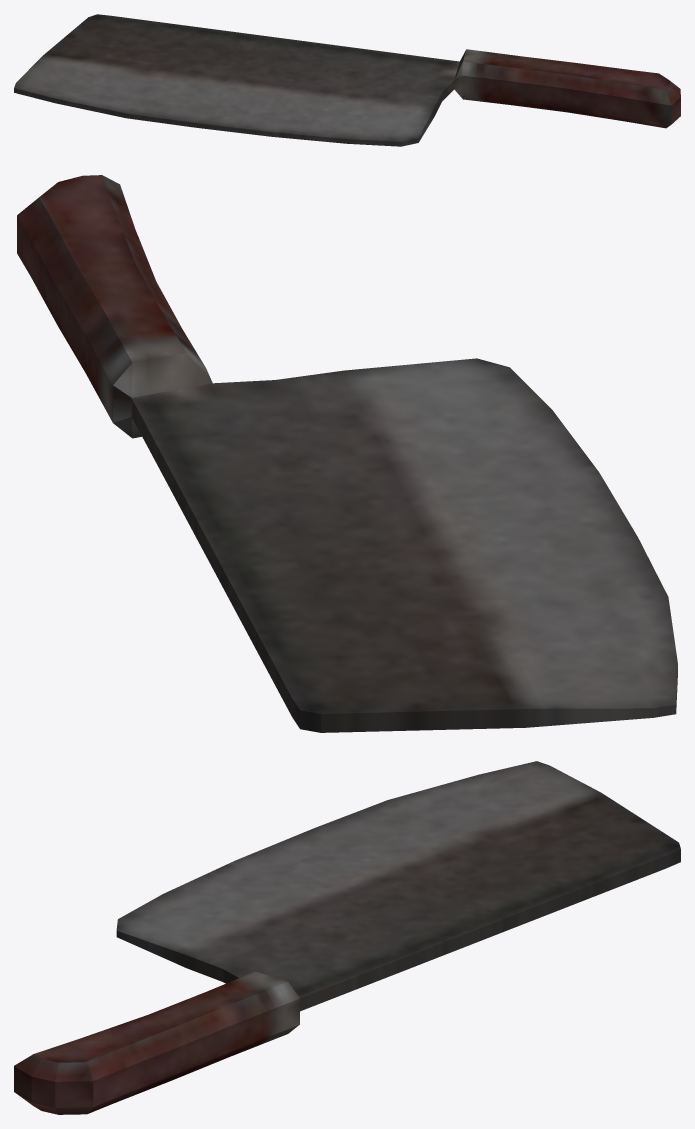
3 views of the same model, one above another, from view 1: azimuth 30°, elevation 25°; view 2: azimuth 150°, elevation 25°; view 3: azimuth 270°, elevation 25° (orthographic). The views are drawn at different scales.
Visible parts, largest first — view 1: kitchen_knife_1; view 2: kitchen_knife_1; view 3: kitchen_knife_1.
Part boxes in pixels (box(x1,y1,x2,y2)): kitchen_knife_1: box(14, 14, 680, 146); kitchen_knife_1: box(17, 175, 677, 732); kitchen_knife_1: box(14, 761, 680, 1114).
Size of the model in its own units: 0.4535 by 0.0334 by 0.3866.
Materials: 1 (1 with a texture image).
